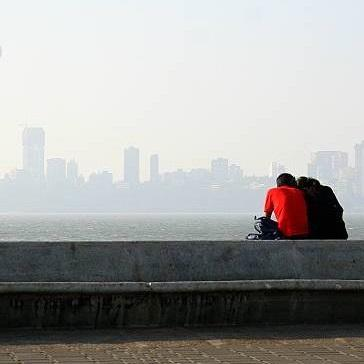backpack: (294, 175, 347, 239), (278, 175, 322, 239), (268, 185, 311, 235), (260, 192, 299, 239), (249, 210, 301, 240), (294, 176, 327, 222), (315, 185, 343, 233), (292, 183, 316, 237), (303, 189, 329, 236), (246, 210, 275, 241), (259, 202, 288, 233), (254, 215, 281, 239), (295, 176, 320, 199), (244, 215, 266, 239), (251, 214, 272, 235), (259, 217, 279, 233), (257, 219, 273, 239), (263, 221, 281, 238), (252, 221, 269, 238), (257, 214, 276, 228), (253, 213, 266, 231), (251, 215, 262, 234), (245, 230, 260, 239)
baseball glove: (254, 215, 283, 239)
bed: (1, 230, 363, 337), (260, 173, 306, 237)
bench: (1, 230, 363, 337), (257, 189, 312, 238), (246, 216, 274, 240)
bicycle: (250, 215, 278, 239)
boat: (33, 166, 354, 277), (1, 237, 358, 334), (247, 172, 339, 241), (259, 172, 307, 235), (247, 176, 283, 191), (247, 180, 271, 191)
car: (260, 173, 309, 238), (299, 176, 347, 238)
chair: (299, 174, 346, 238), (260, 173, 306, 237), (250, 215, 278, 239), (249, 214, 263, 236)
dog: (295, 175, 346, 240), (260, 173, 306, 237), (250, 215, 278, 239), (246, 217, 266, 238), (251, 215, 262, 234), (245, 230, 260, 239)
frisbee: (245, 230, 260, 239)
handbag: (295, 176, 348, 240), (260, 172, 310, 239), (275, 177, 324, 236), (292, 183, 316, 237), (257, 205, 286, 239), (255, 216, 279, 239), (246, 217, 266, 238), (252, 213, 270, 236), (263, 221, 281, 238), (258, 213, 275, 230), (251, 215, 262, 234), (245, 230, 260, 239)
horse: (295, 175, 346, 240), (258, 173, 305, 239), (256, 206, 299, 237), (256, 215, 283, 239)
kite: (259, 173, 309, 237), (299, 176, 347, 238)
motorcycle: (257, 189, 312, 238), (249, 216, 277, 239)
person: (247, 172, 339, 241), (259, 173, 307, 238), (299, 174, 346, 238), (278, 175, 322, 239), (251, 183, 293, 241), (262, 171, 308, 207), (249, 210, 301, 240), (292, 183, 316, 237), (260, 173, 289, 217), (260, 197, 284, 236), (256, 215, 283, 239), (275, 173, 296, 187)
skateboard: (249, 216, 277, 239), (249, 214, 263, 236), (244, 227, 265, 240), (245, 230, 260, 239)
snowboard: (254, 215, 281, 239), (244, 216, 270, 239), (245, 230, 260, 239)
suitcase: (260, 173, 309, 238), (299, 176, 347, 238), (253, 216, 279, 239), (246, 217, 266, 238), (252, 215, 268, 232), (245, 230, 260, 239)
surfboard: (258, 174, 308, 240), (253, 215, 281, 239)
truck: (260, 173, 309, 238)
tv: (260, 173, 309, 238)
umbrella: (260, 173, 309, 238), (299, 174, 346, 238)
